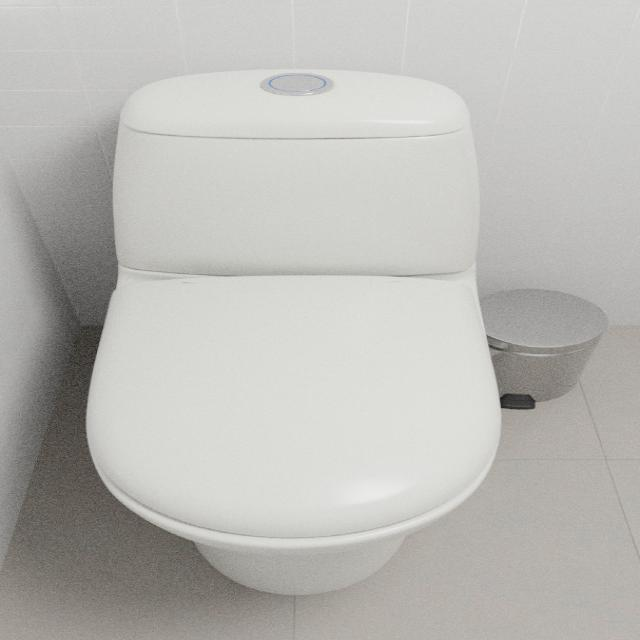toilet: (83, 68, 503, 596)
